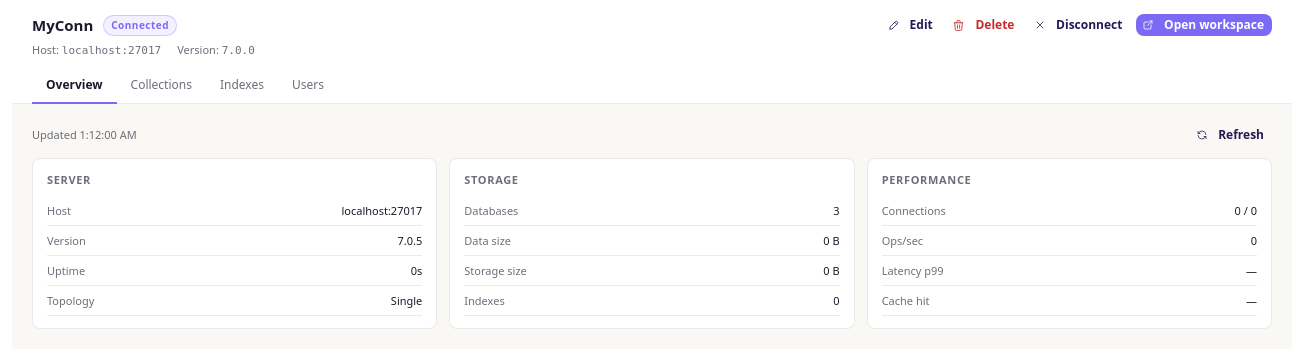
DetailPanel Collections › expands a db section with the keyboard, not just a click
Click the button "Collections". click: (161, 87)
box: [116,69,206,104]
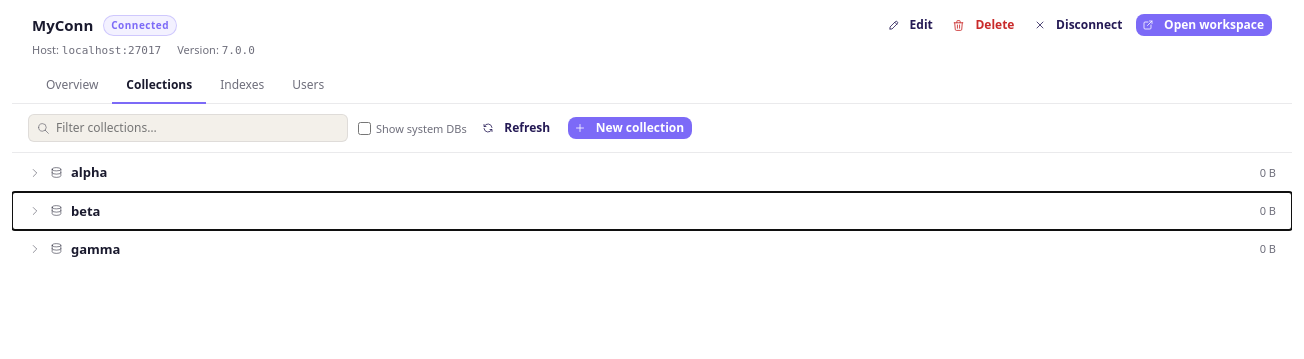
Press Enter
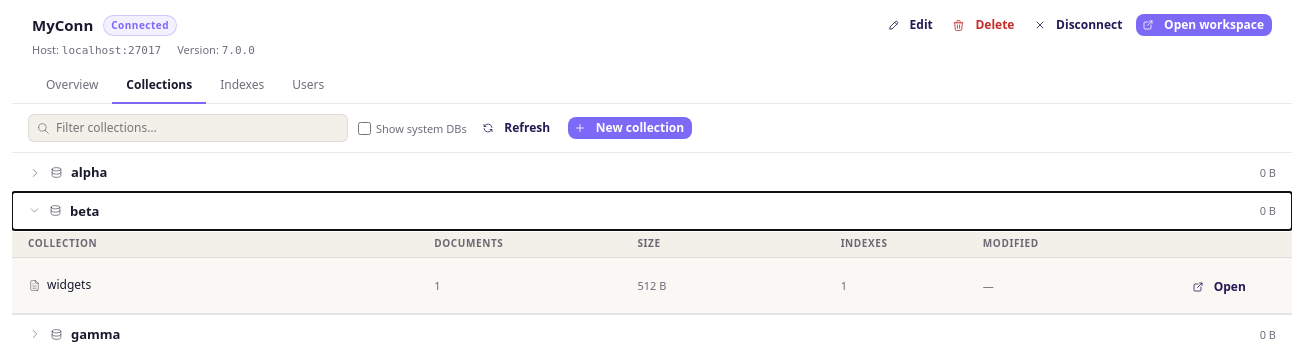
Check: the button "beta 0 B" is expanded, box [12,192,1292,230]
Check: the text "widgets" is shown, box [47,276,91,295]
